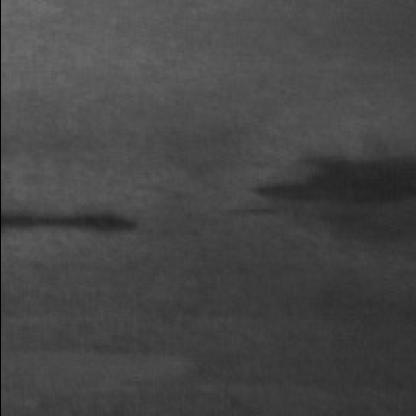inclusion: (239, 138, 416, 216), (4, 199, 148, 242)
